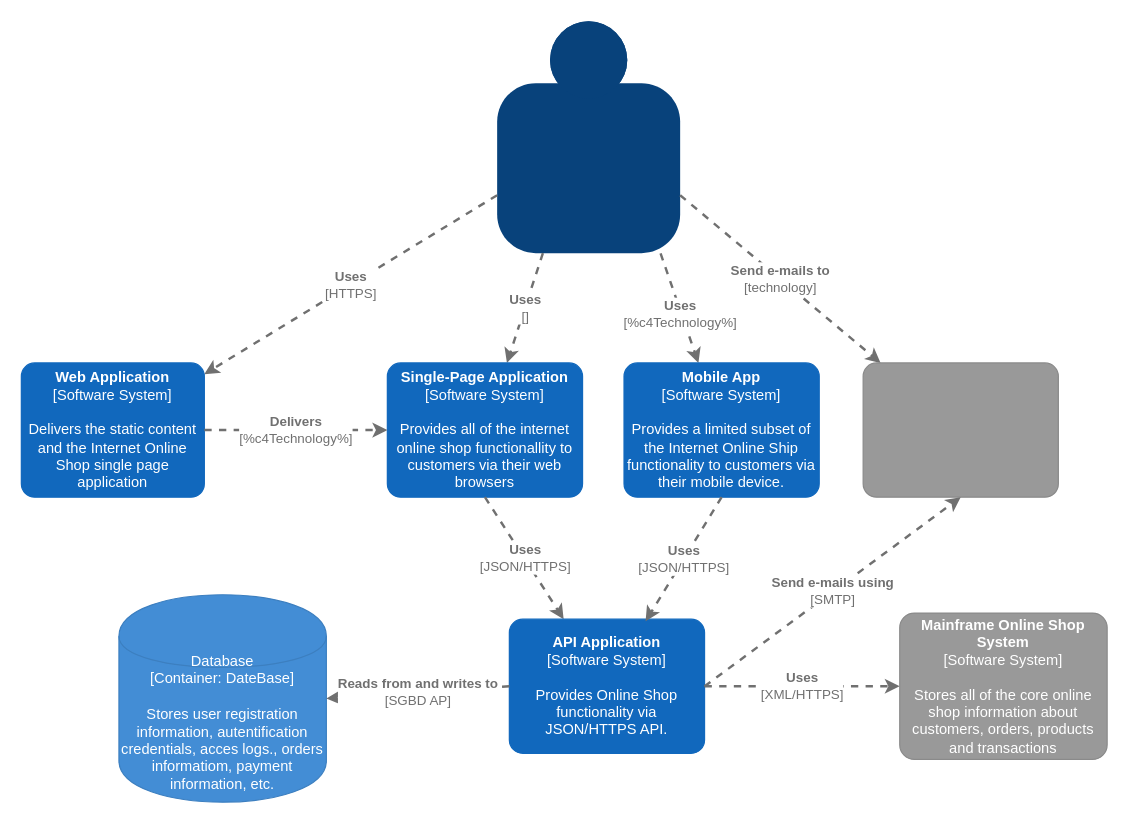
The diagram is 1129 pixels wide and 824 high, and some of its shapes have lost their labels. The shapes that lost their labels are listed below. From the top down, each one's centre as x and y in pixels, then its label:
[588,137]: Customer [Person] customer of online shop with personal account
[960,429]: E-mail System [Software System] The internal e-mail system.
